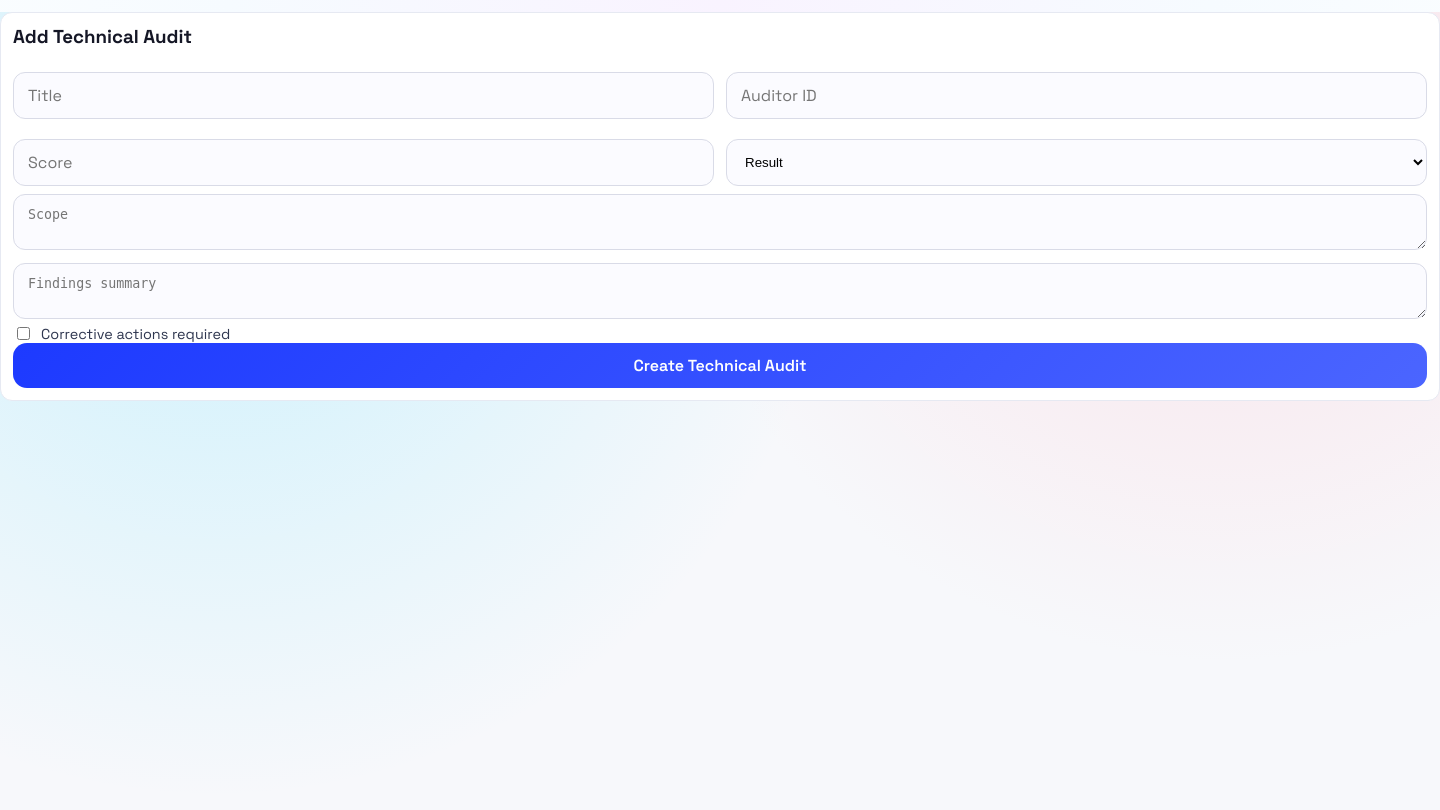
Test: TechnicalAuditForm › validates score and findings for fail/partial
Type "Electrical safety" into the field with placeholder "Title" at (364, 96), box [13,72,714,119]
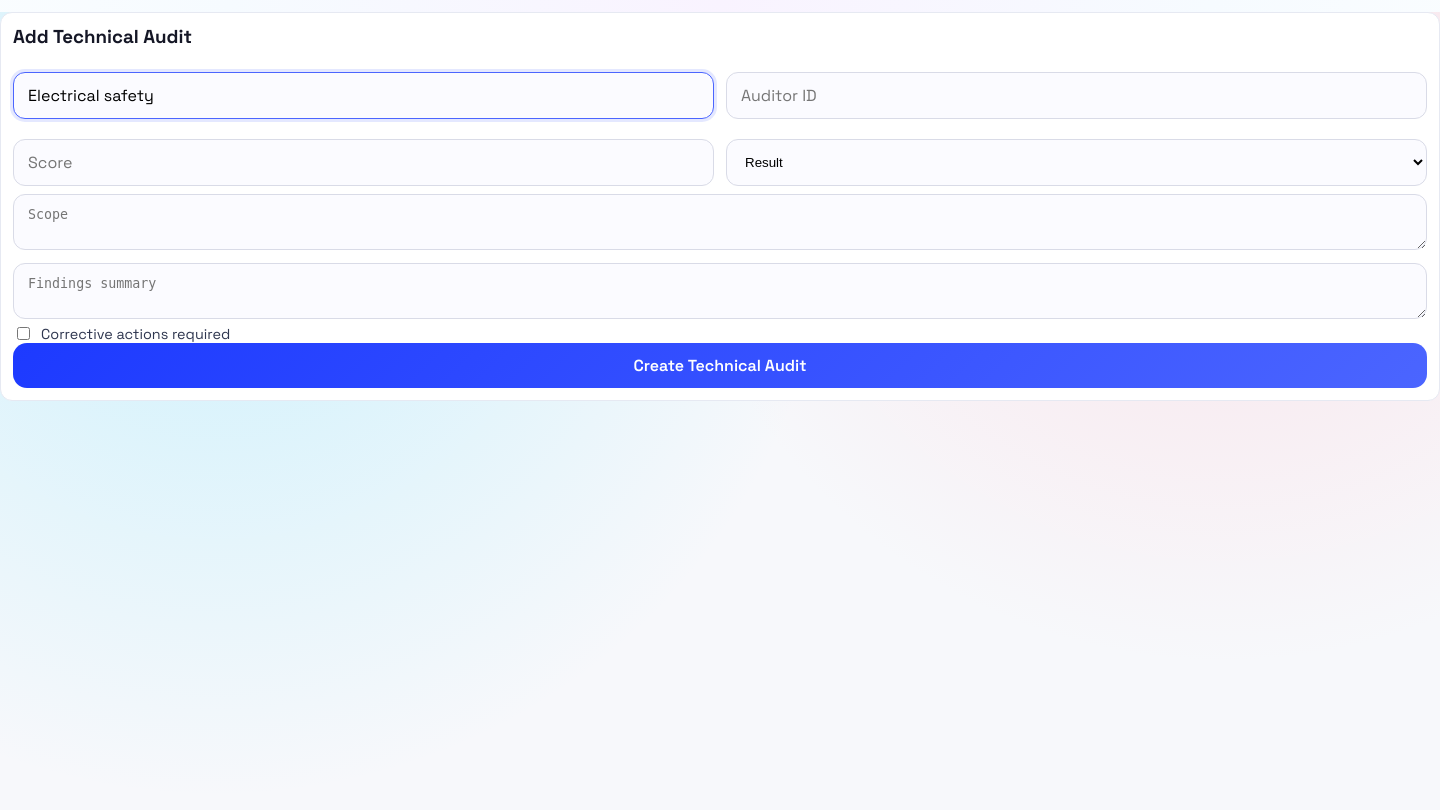
Type "4" into the field with placeholder "Auditor ID" at (1076, 96), box [726,72,1427,119]
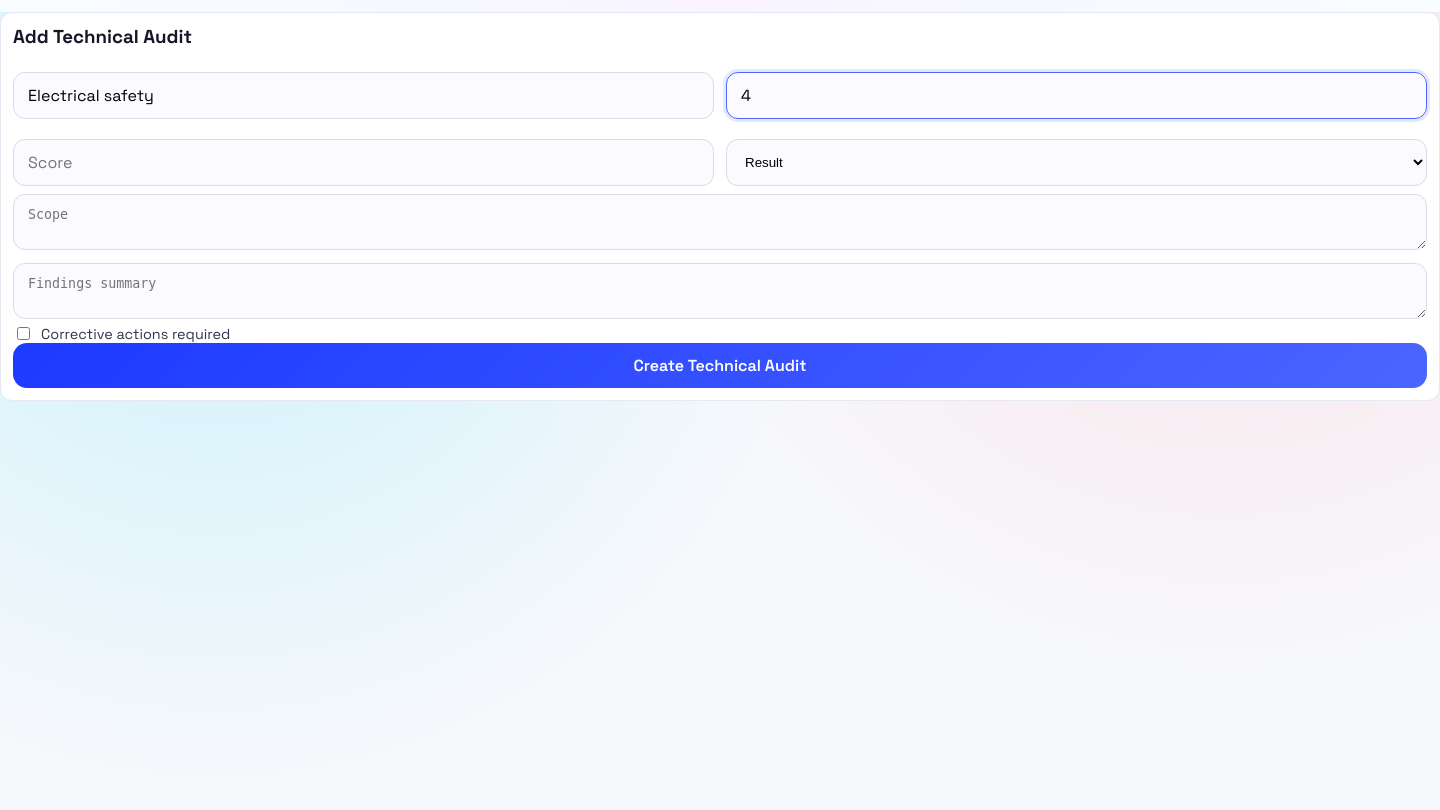
Type "200" into the field with placeholder "Score" at (364, 162), box [13,139,714,186]
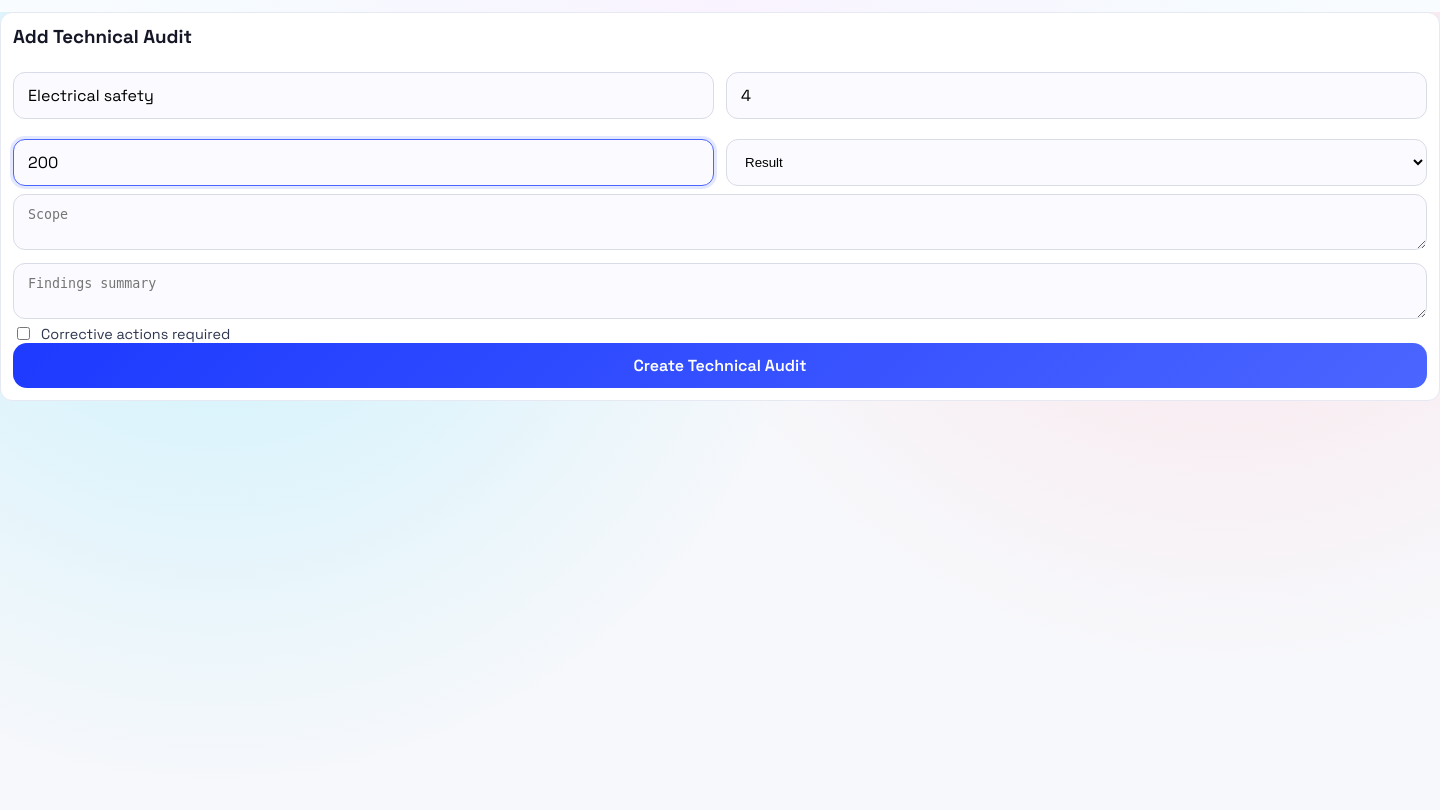
Click the button "Create Technical Audit" at (720, 366), box [13,343,1427,388]
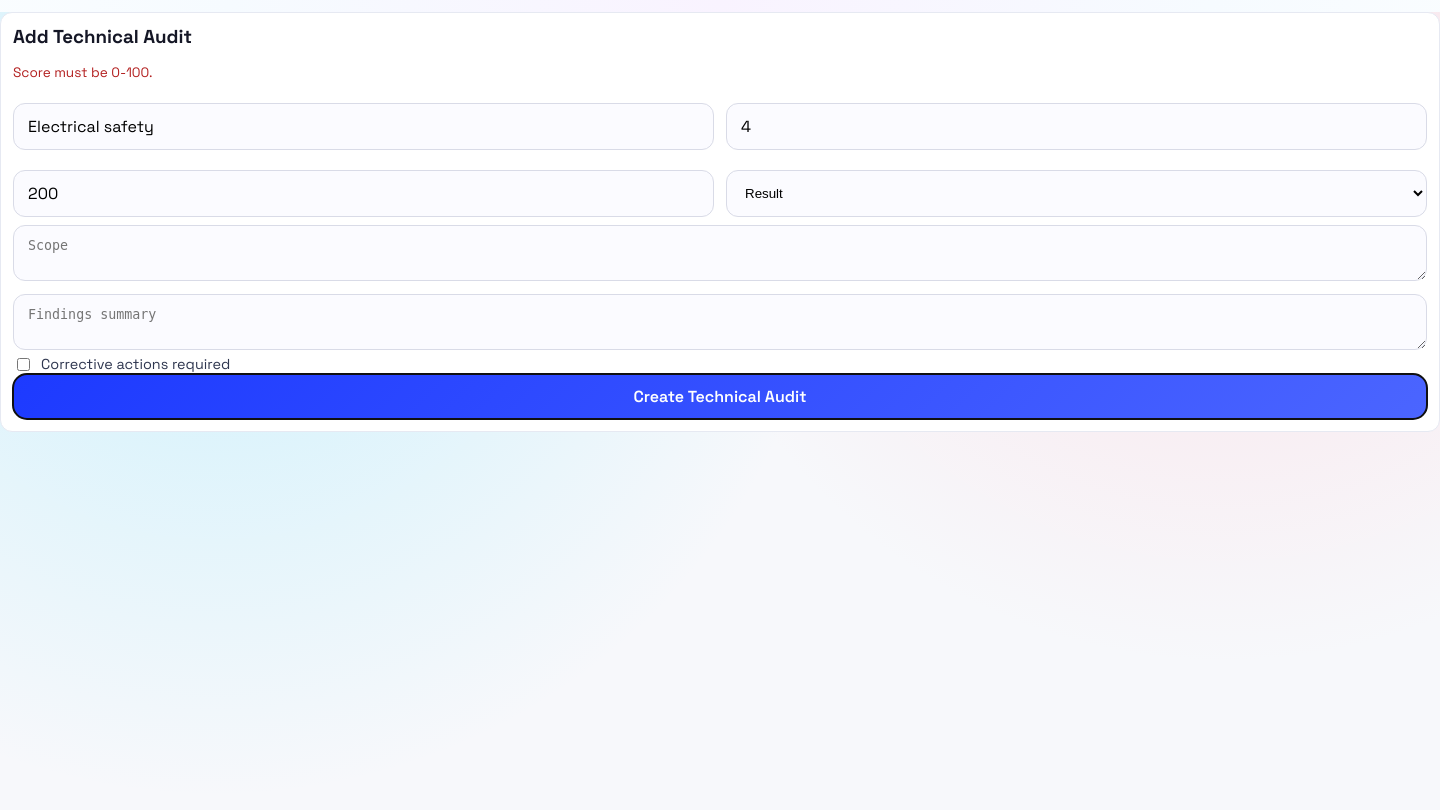
Result: the text "Score must be 0-100." is shown at [13,64,152,81]
